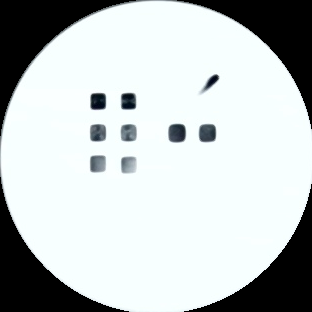检查点: (120, 155, 139, 174), (199, 123, 217, 143), (168, 124, 186, 143), (89, 155, 108, 173), (120, 92, 138, 110), (90, 92, 107, 110), (89, 124, 106, 142), (121, 124, 138, 142)
